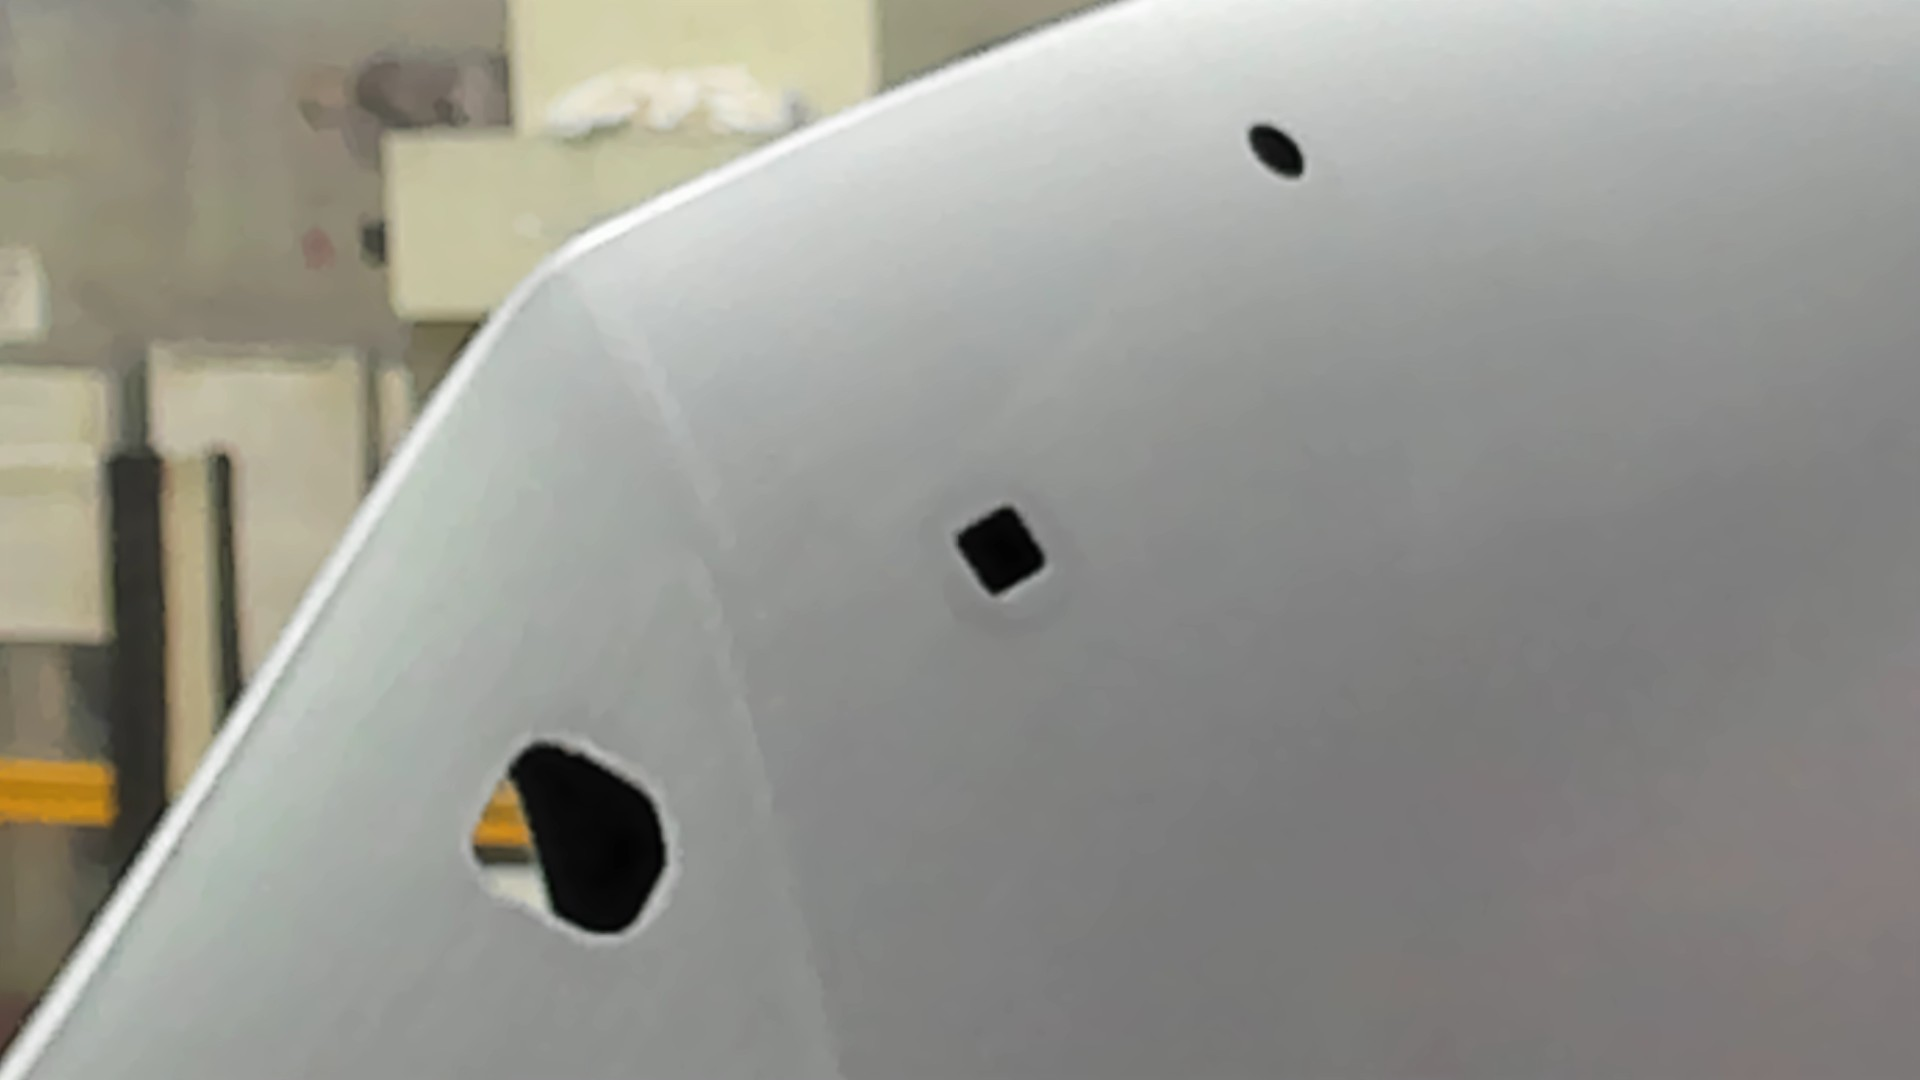capo: (1060, 193, 1920, 1080)
chico: (1245, 119, 1307, 181)
grande: (454, 727, 682, 945)
mediano: (945, 495, 1052, 603)
